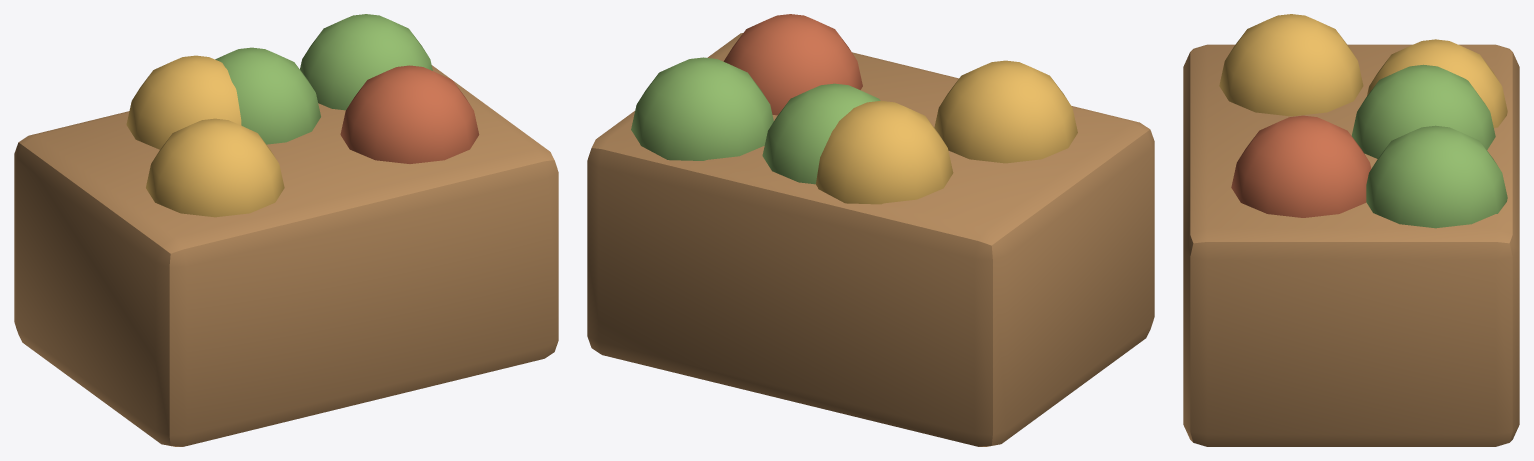
Rendered from food_crate.glb.
3 renders of one model, left to right at view 1: azimuth 30°, elevation 25°; view 2: azimuth 150°, elevation 25°; view 3: azimuth 270°, elevation 25°, orthographic. The views are drawn at different scales.
Parts seen in each view (by area): view 1: crate, food_a, food_b, food_c; view 2: crate, food_a, food_b, food_c; view 3: crate, food_b, food_a, food_c.
Part boxes in pixels (<box>): crate: <box>14,65,558,446</box>; food_a: <box>126,55,284,217</box>; food_b: <box>215,14,432,144</box>; food_c: <box>340,65,479,163</box>; crate: <box>587,33,1154,446</box>; food_a: <box>816,60,1077,204</box>; food_b: <box>631,57,880,184</box>; food_c: <box>723,14,862,115</box>; crate: <box>1183,44,1519,446</box>; food_b: <box>1351,64,1507,228</box>; food_a: <box>1219,14,1507,128</box>; food_c: <box>1231,115,1371,217</box>.
Size of the model in its own units: 0.4 by 0.26 by 0.28.
